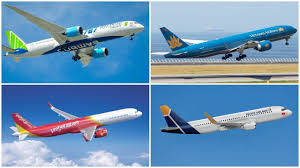maybay_dansu: (4, 5, 145, 64), (156, 20, 299, 63), (10, 104, 145, 148), (160, 104, 293, 136)
